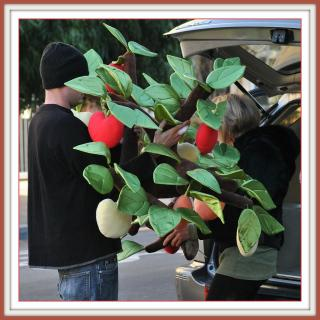Apple: (87, 112, 126, 147)
